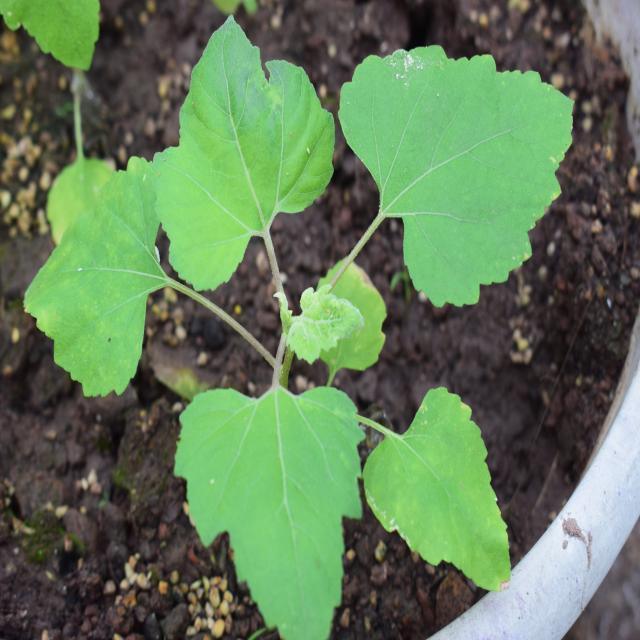cocklebur: (55, 12, 572, 602)
